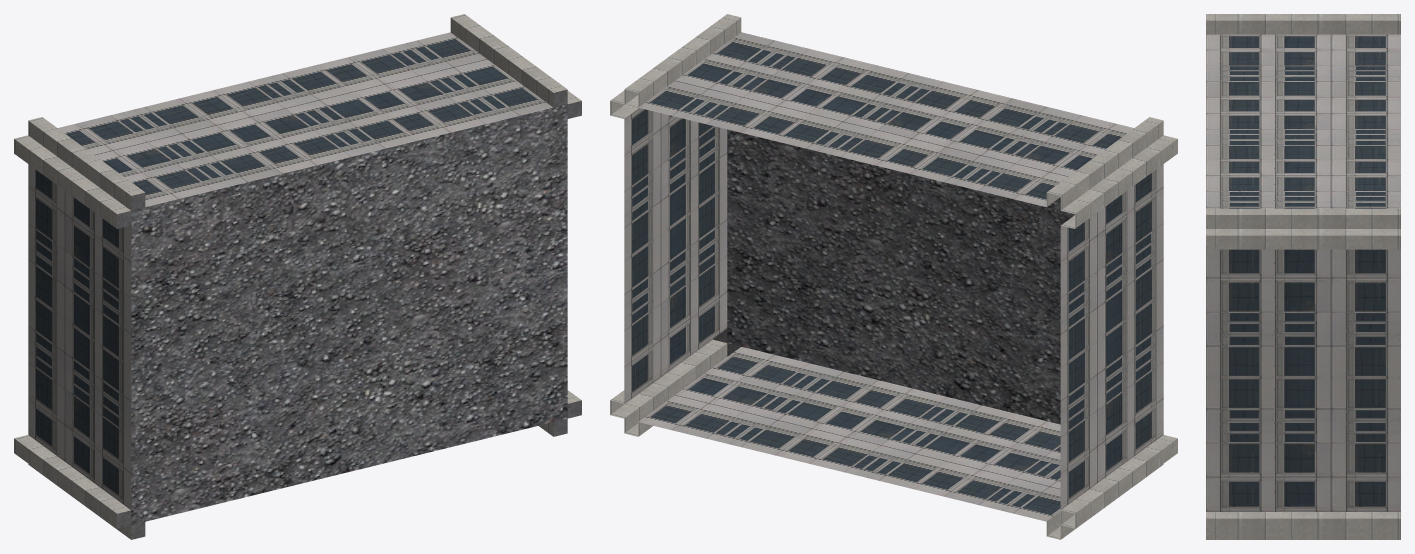
The model's file is mp_nuketown_2020_vista_bldg_04_LOD0.obj.
3 views of the same model, side by side, from view 1: azimuth 30°, elevation 25°; view 2: azimuth 150°, elevation 25°; view 3: azimuth 270°, elevation 25° (orthographic). The views are drawn at different scales.
Visible parts, largest first — view 1: mp_m_vista_bldgs_01; view 2: mp_m_vista_bldgs_01; view 3: mp_m_vista_bldgs_01.
Part boxes in pixels (box(x1,y1,x2,y2)): mp_m_vista_bldgs_01: box(14, 14, 581, 539); mp_m_vista_bldgs_01: box(610, 14, 1177, 539); mp_m_vista_bldgs_01: box(1206, 14, 1400, 539).
Size of the model in its own units: 3332 by 2357 by 1280.
1 material, 1 textured.
